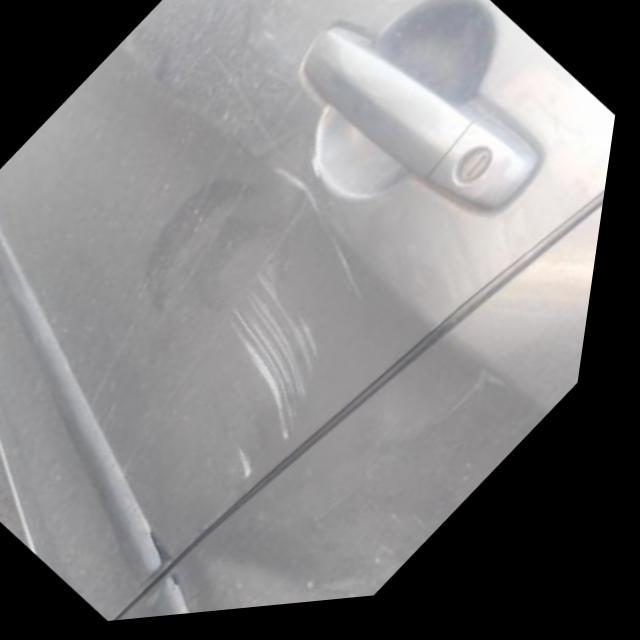dent: (249, 353, 568, 615), (439, 365, 522, 440)
rub: (225, 274, 336, 453), (265, 161, 386, 321)
scratch: (243, 449, 277, 496)
